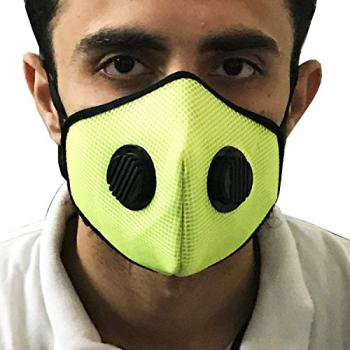mask: (13, 3, 334, 264)
